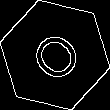O_SE: (22, 22, 88, 88)
